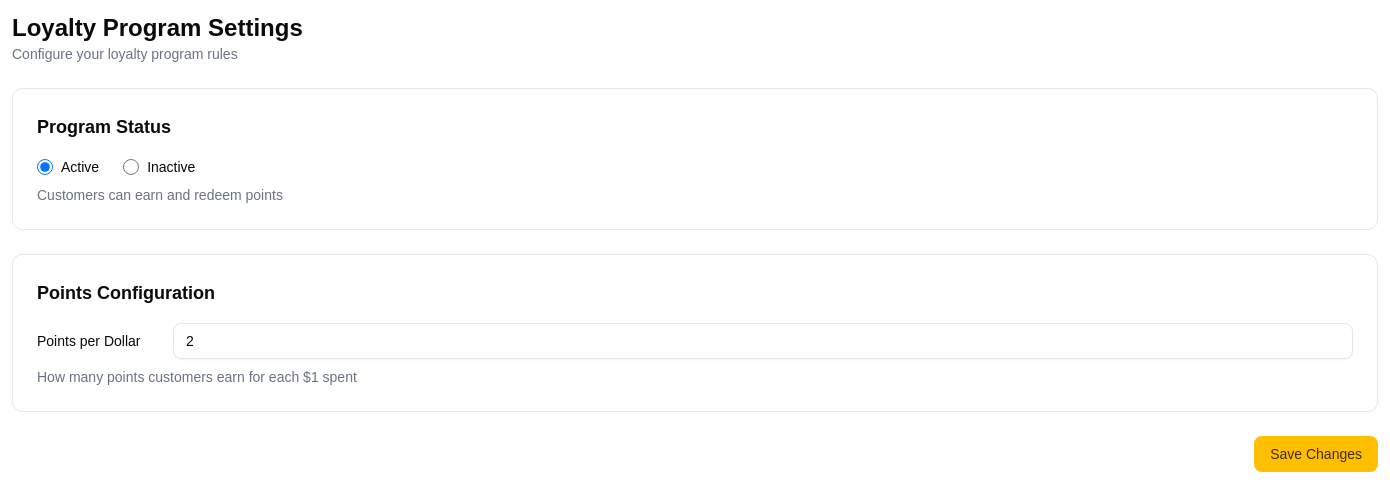
Test: LoyaltyRulesClient › Form Interactions › should show status description based on current status
The width and height of the screenshot is (1390, 489).
Check: the text "Customers can earn and redeem points" is shown, box [37,187,283,203]
Click the radio button labelled "Inactive" at {"x": 131, "y": 167}, box [123,159,139,175]
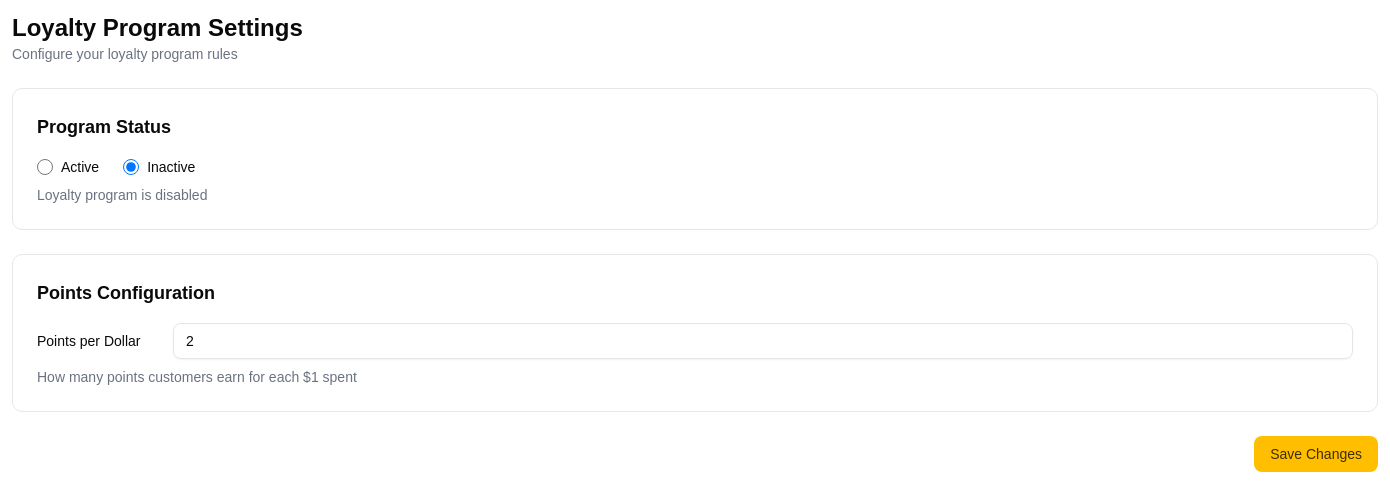
Check: the text "Loyalty program is disabled" is shown, box [37,187,207,203]
